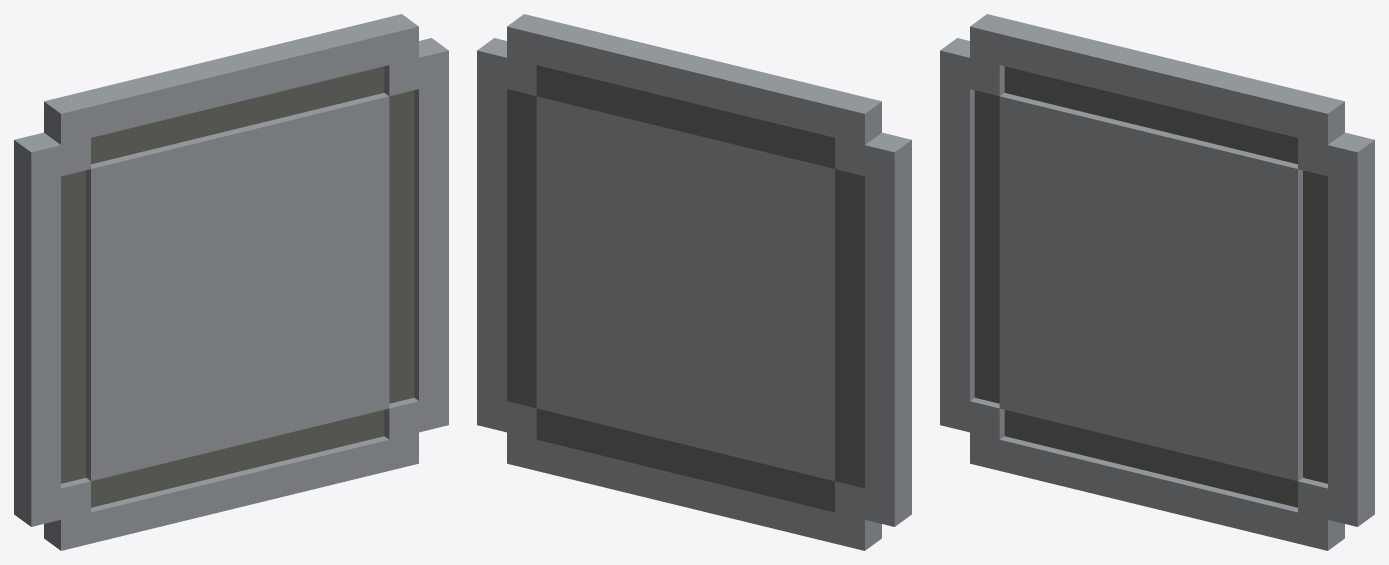
The model's file is button.glb.
The picture shows the model from 3 angles, left to right: view 1: azimuth 30°, elevation 25°; view 2: azimuth 150°, elevation 25°; view 3: azimuth 330°, elevation 25°; orthographic projection.
Parts seen in each view (by area): view 1: Grid; view 2: Grid; view 3: Grid.
Boxes of the visible parts, x1,y1,x2,y2 form: Grid: (14, 14, 448, 550); Grid: (477, 14, 911, 550); Grid: (940, 14, 1374, 550).
Bounding box in the file's own units: 0.875 × 0.875 × 0.0625.
1 material, 1 textured.
